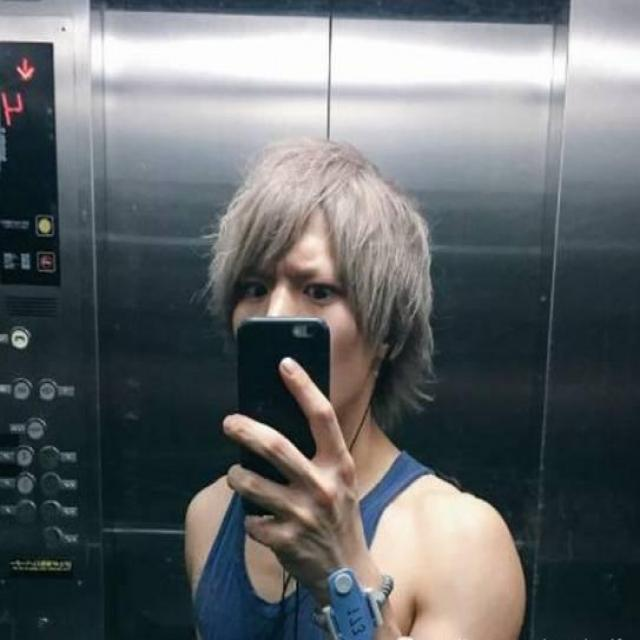nomask: (227, 215, 374, 418)
